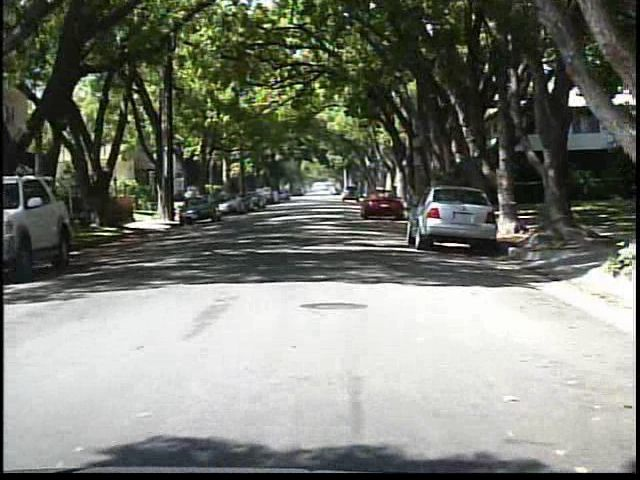person: (181, 184, 200, 218)
